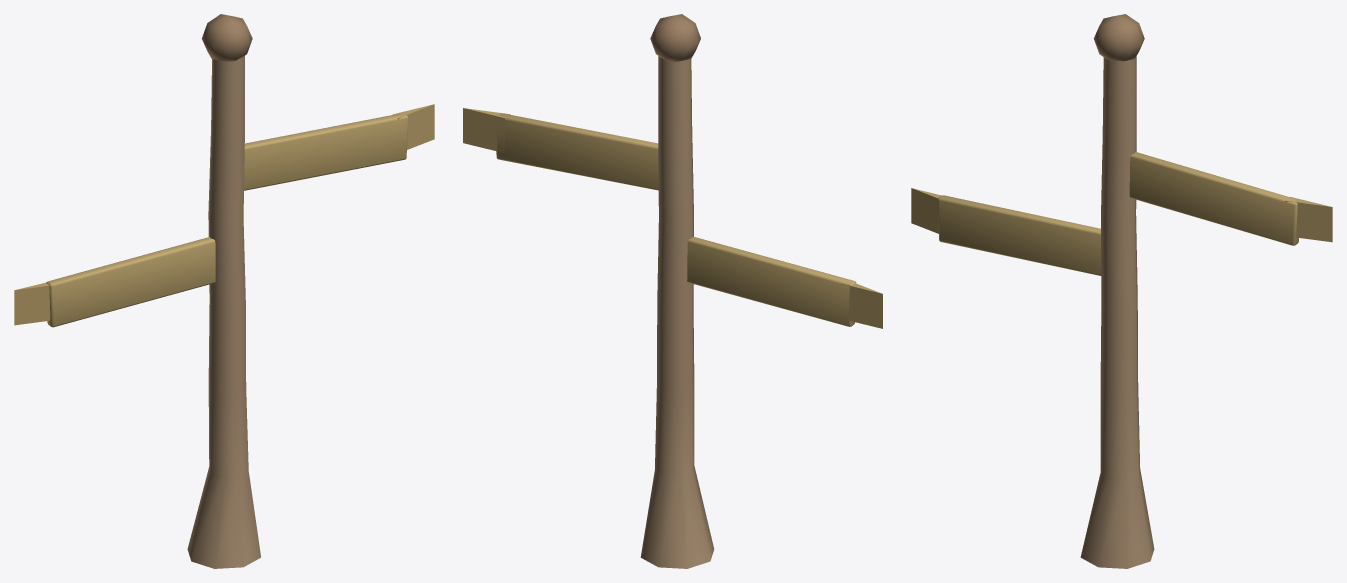
File: prop_signpost.glb
3 renders of one model, left to right at view 1: azimuth 30°, elevation 25°; view 2: azimuth 150°, elevation 25°; view 3: azimuth 330°, elevation 25°, orthographic.
Visible parts, largest first — view 1: prop_signpost; view 2: prop_signpost; view 3: prop_signpost.
Part boxes in pixels (<box>): prop_signpost: <box>14,14,434,568</box>; prop_signpost: <box>463,14,882,568</box>; prop_signpost: <box>911,14,1332,568</box>.
Size of the model in its own units: 2 by 2.44 by 0.3145.
